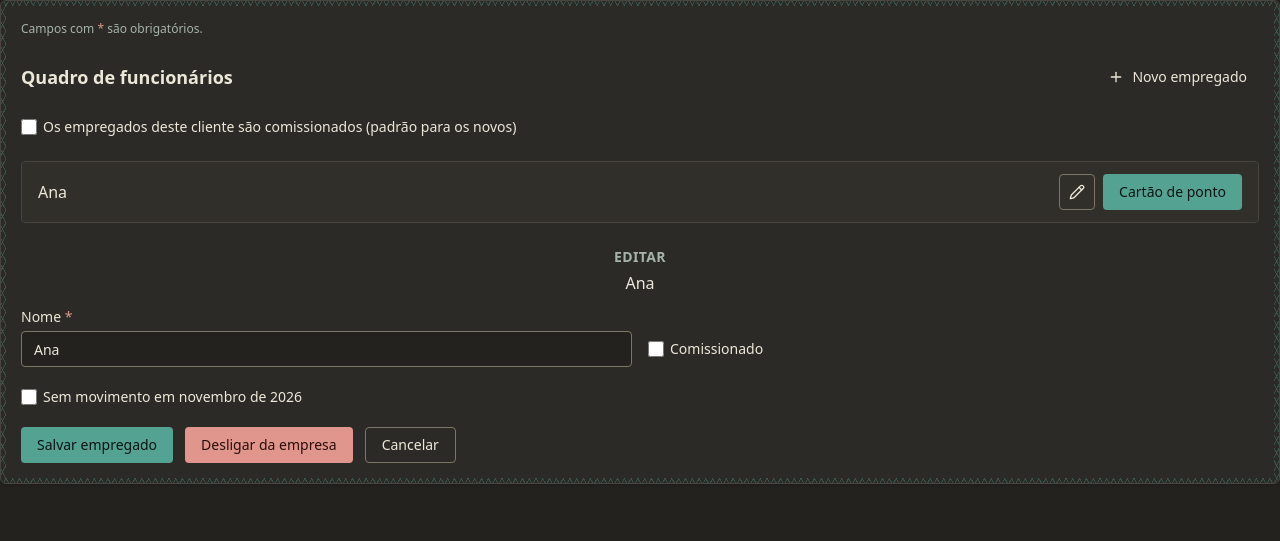
Test: QuadroDeFuncionariosContainer › erro do servidor e rede fora aparecem no quadro
Click the button "Desligar da empresa": (269, 445) [185,427,353,463]
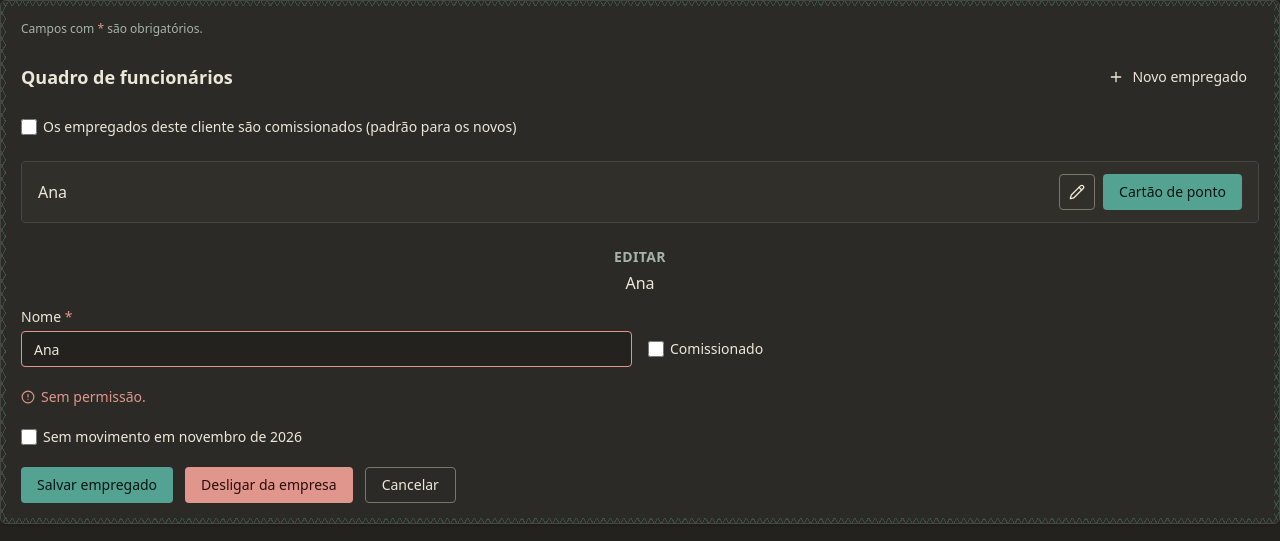
Now the message reads "Sem permissão.", box [41,387,146,406]
Click the button "Desligar da empresa": (269, 485) [185,467,353,503]
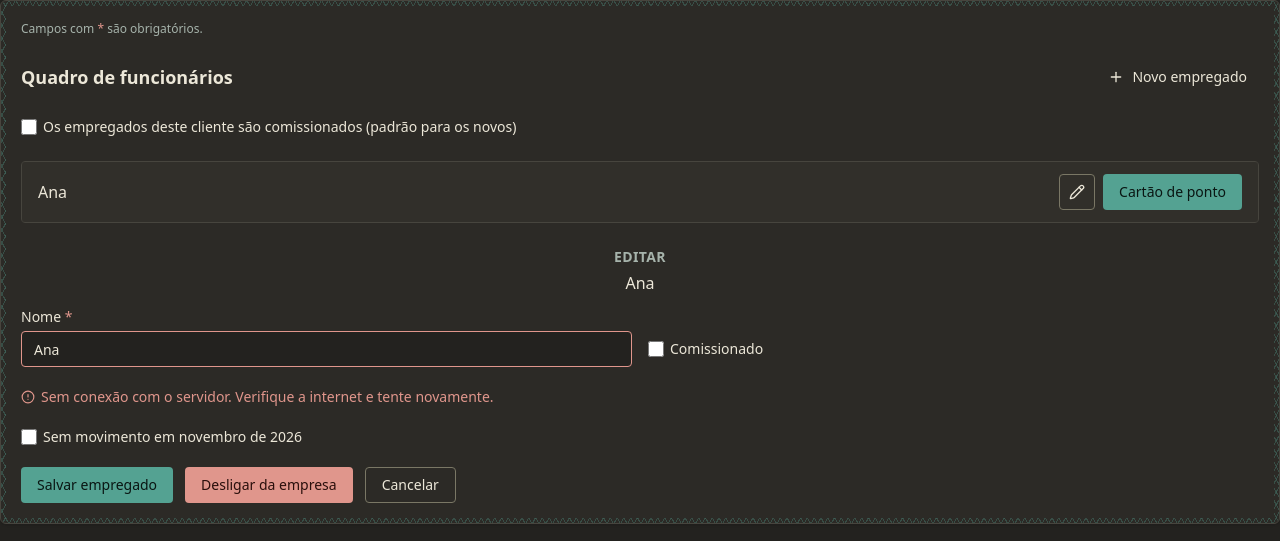
Now the message shows "Sem conexão com o servidor", box [41,387,494,406]
